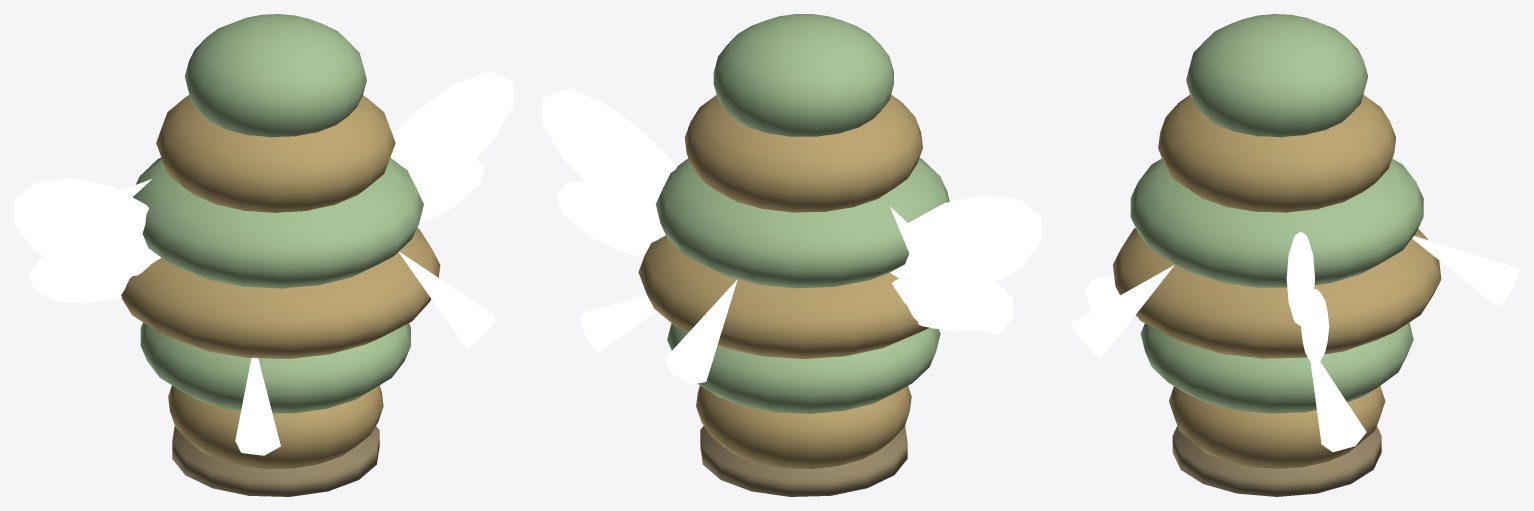
Rendered from egg_forest_09.glb.
The picture shows the model from 3 angles, left to right: view 1: azimuth 30°, elevation 25°; view 2: azimuth 150°, elevation 25°; view 3: azimuth 270°, elevation 25°; orthographic projection.
Visible parts, largest first — view 1: ball; view 2: ball; view 3: ball.
Boxes of the visible parts, x1,y1,x2,y2 form: ball: (14,14,513,496); ball: (542,14,1041,496); ball: (1070,14,1519,496).
Bounding box in the file's own units: 1.2 × 0.99 × 0.9475.
